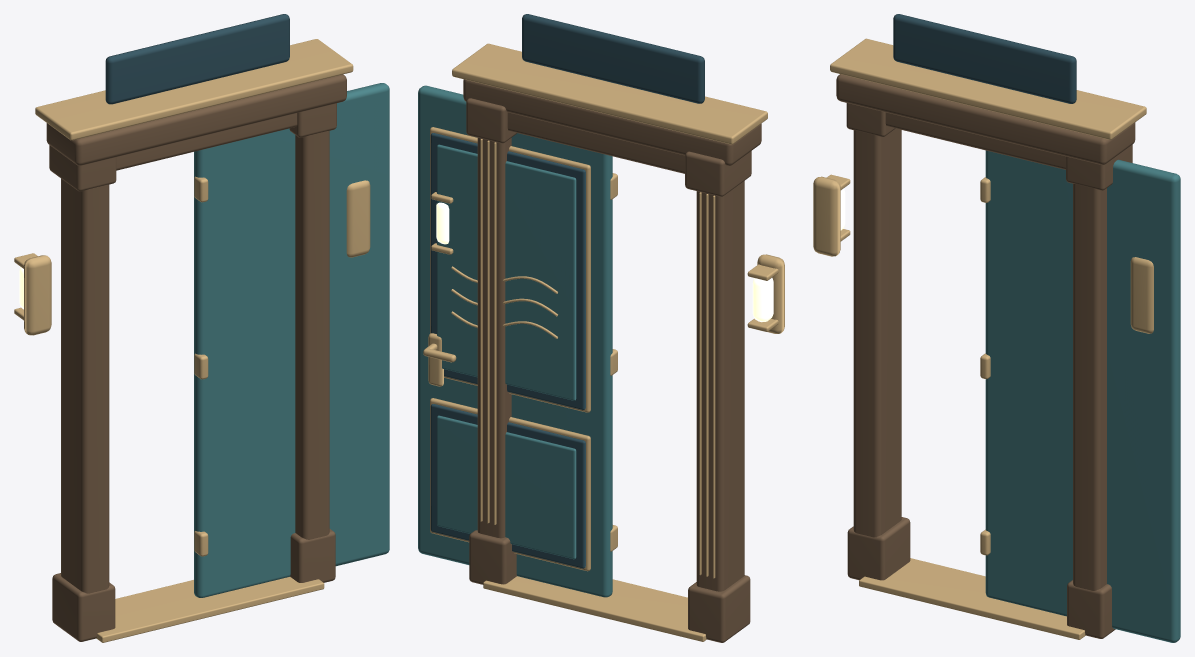
The model's file is connected-door-8388ba11dbcc.glb.
3 views of the same model, side by side, from view 1: azimuth 30°, elevation 25°; view 2: azimuth 150°, elevation 25°; view 3: azimuth 330°, elevation 25° (orthographic).
Visible parts, largest first — view 1: Leaf_Marine enamel, Frame_Smoked oak, Frame_Brushed champagne, Frame_Recessed teal, Leaf_Brushed champagne; view 2: Leaf_Marine enamel, Frame_Smoked oak, Frame_Brushed champagne, Leaf_Recessed teal, Frame_Recessed teal, Leaf_Brushed champagne, Frame_Warm glass; view 3: Leaf_Marine enamel, Frame_Smoked oak, Frame_Brushed champagne, Frame_Recessed teal, Leaf_Brushed champagne.
Boxes of the visible parts, bbox=[...] form: Leaf_Marine enamel: bbox=[194, 83, 389, 597]; Frame_Smoked oak: bbox=[46, 74, 346, 641]; Frame_Brushed champagne: bbox=[14, 39, 370, 642]; Frame_Recessed teal: bbox=[105, 14, 289, 104]; Leaf_Brushed champagne: bbox=[194, 176, 208, 556]; Leaf_Marine enamel: bbox=[418, 85, 612, 597]; Frame_Smoked oak: bbox=[463, 79, 761, 642]; Frame_Brushed champagne: bbox=[431, 43, 784, 641]; Leaf_Recessed teal: bbox=[430, 133, 585, 568]; Frame_Recessed teal: bbox=[522, 14, 704, 103]; Leaf_Brushed champagne: bbox=[423, 127, 617, 571]; Frame_Warm glass: bbox=[436, 202, 773, 322]; Leaf_Marine enamel: bbox=[985, 150, 1180, 642]; Frame_Smoked oak: bbox=[836, 74, 1135, 638]; Frame_Brushed champagne: bbox=[813, 38, 1153, 639]; Frame_Recessed teal: bbox=[893, 14, 1076, 103]; Leaf_Brushed champagne: bbox=[980, 177, 990, 555].
Bounding box in the file's own units: 1.86 × 2.77 × 0.3375.
